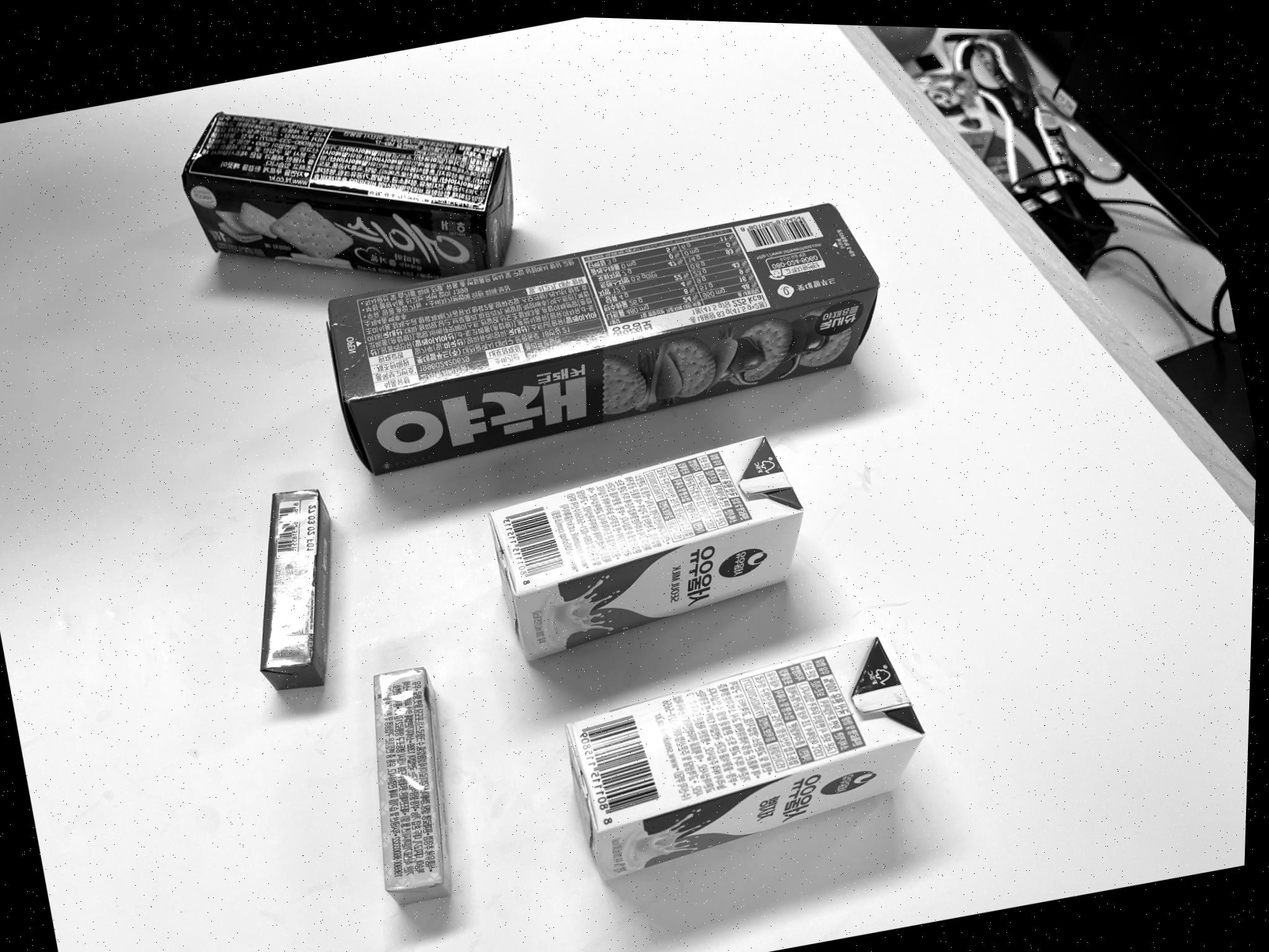cracker_ace: (183, 113, 512, 278)
cracker_vege: (328, 204, 880, 474)
gum_green: (261, 490, 330, 689)
gum_yellow: (374, 667, 451, 904)
milk_blue: (567, 638, 924, 879)
milk_green: (490, 436, 802, 659)
